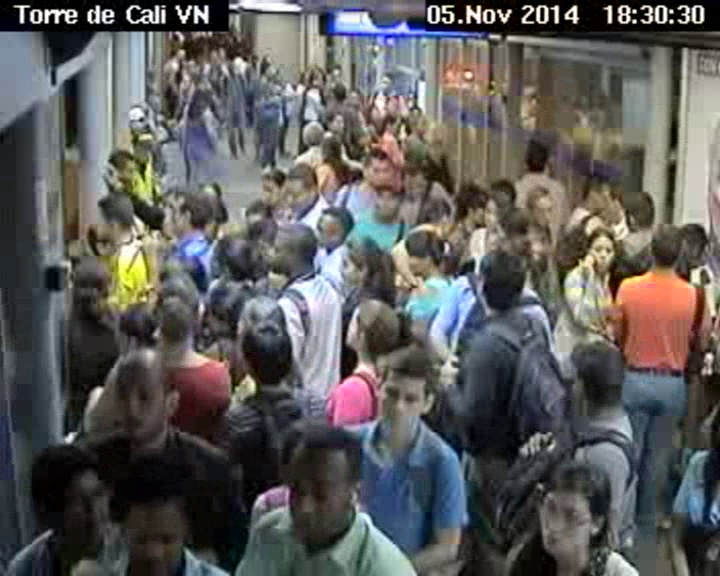person: (272, 415, 367, 551), (107, 452, 207, 576), (25, 441, 115, 567), (530, 456, 616, 568), (101, 349, 187, 445), (371, 344, 442, 449), (560, 338, 632, 424), (337, 294, 412, 363), (233, 317, 296, 389), (152, 274, 203, 353), (203, 229, 270, 284), (471, 251, 526, 317), (333, 230, 392, 291), (232, 294, 291, 351), (270, 219, 319, 285), (67, 253, 116, 317), (400, 229, 451, 286), (89, 193, 139, 251), (113, 297, 160, 354), (575, 218, 617, 279), (168, 188, 212, 245), (577, 165, 617, 225), (646, 220, 689, 274), (614, 184, 660, 233), (284, 161, 326, 212), (309, 201, 349, 251), (452, 187, 495, 230), (359, 145, 393, 187), (523, 183, 556, 226), (257, 166, 290, 209), (517, 138, 554, 175), (402, 157, 432, 200), (239, 199, 281, 229), (482, 189, 513, 229), (109, 148, 140, 188), (130, 129, 156, 163), (324, 108, 353, 137), (298, 119, 325, 150), (187, 85, 210, 108), (382, 110, 405, 131), (375, 70, 396, 92), (404, 102, 425, 124), (332, 81, 348, 107), (304, 67, 323, 84), (258, 79, 275, 97), (257, 63, 276, 77), (224, 58, 238, 75)
